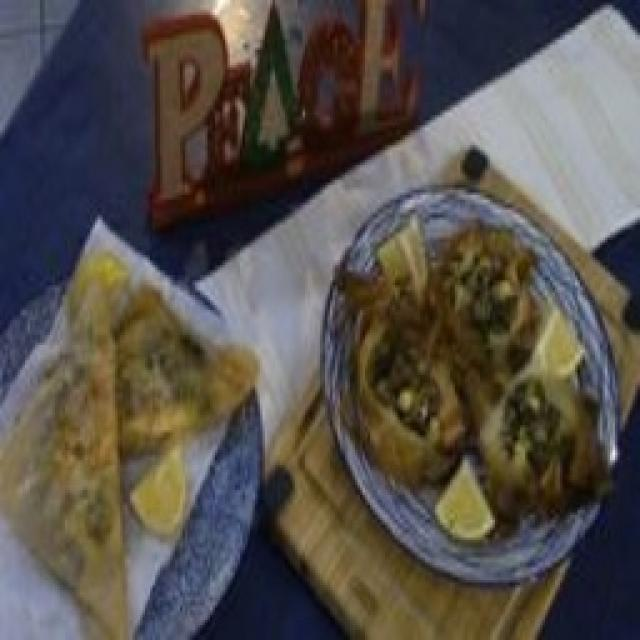Brik: (0, 221, 258, 639)
